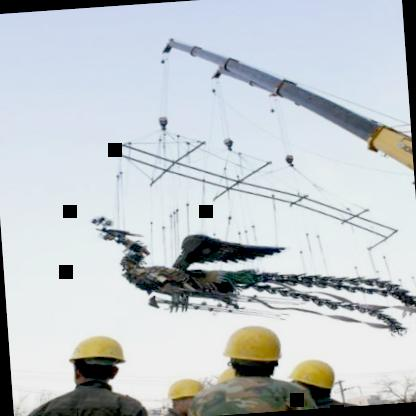helmet: (213, 316, 294, 386), (58, 326, 133, 392), (275, 349, 343, 406), (161, 371, 207, 416)
